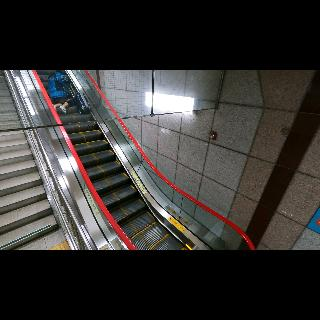anomaly: (41, 70, 78, 114)
